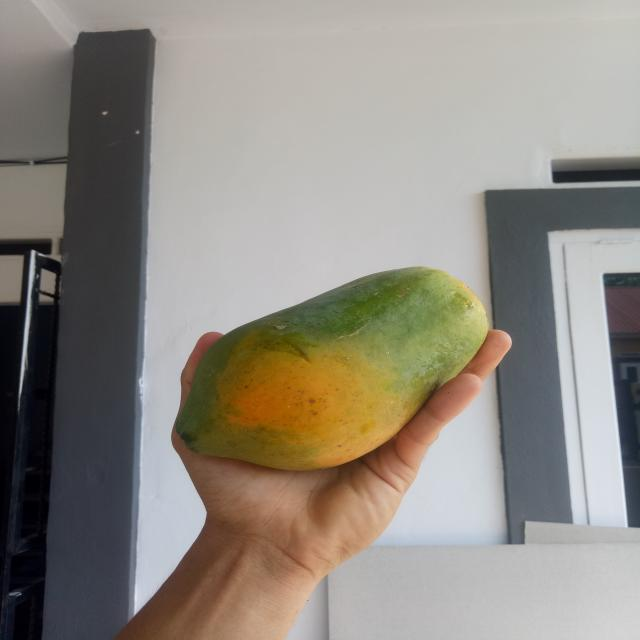Pepaya rippen: (157, 258, 492, 478)
